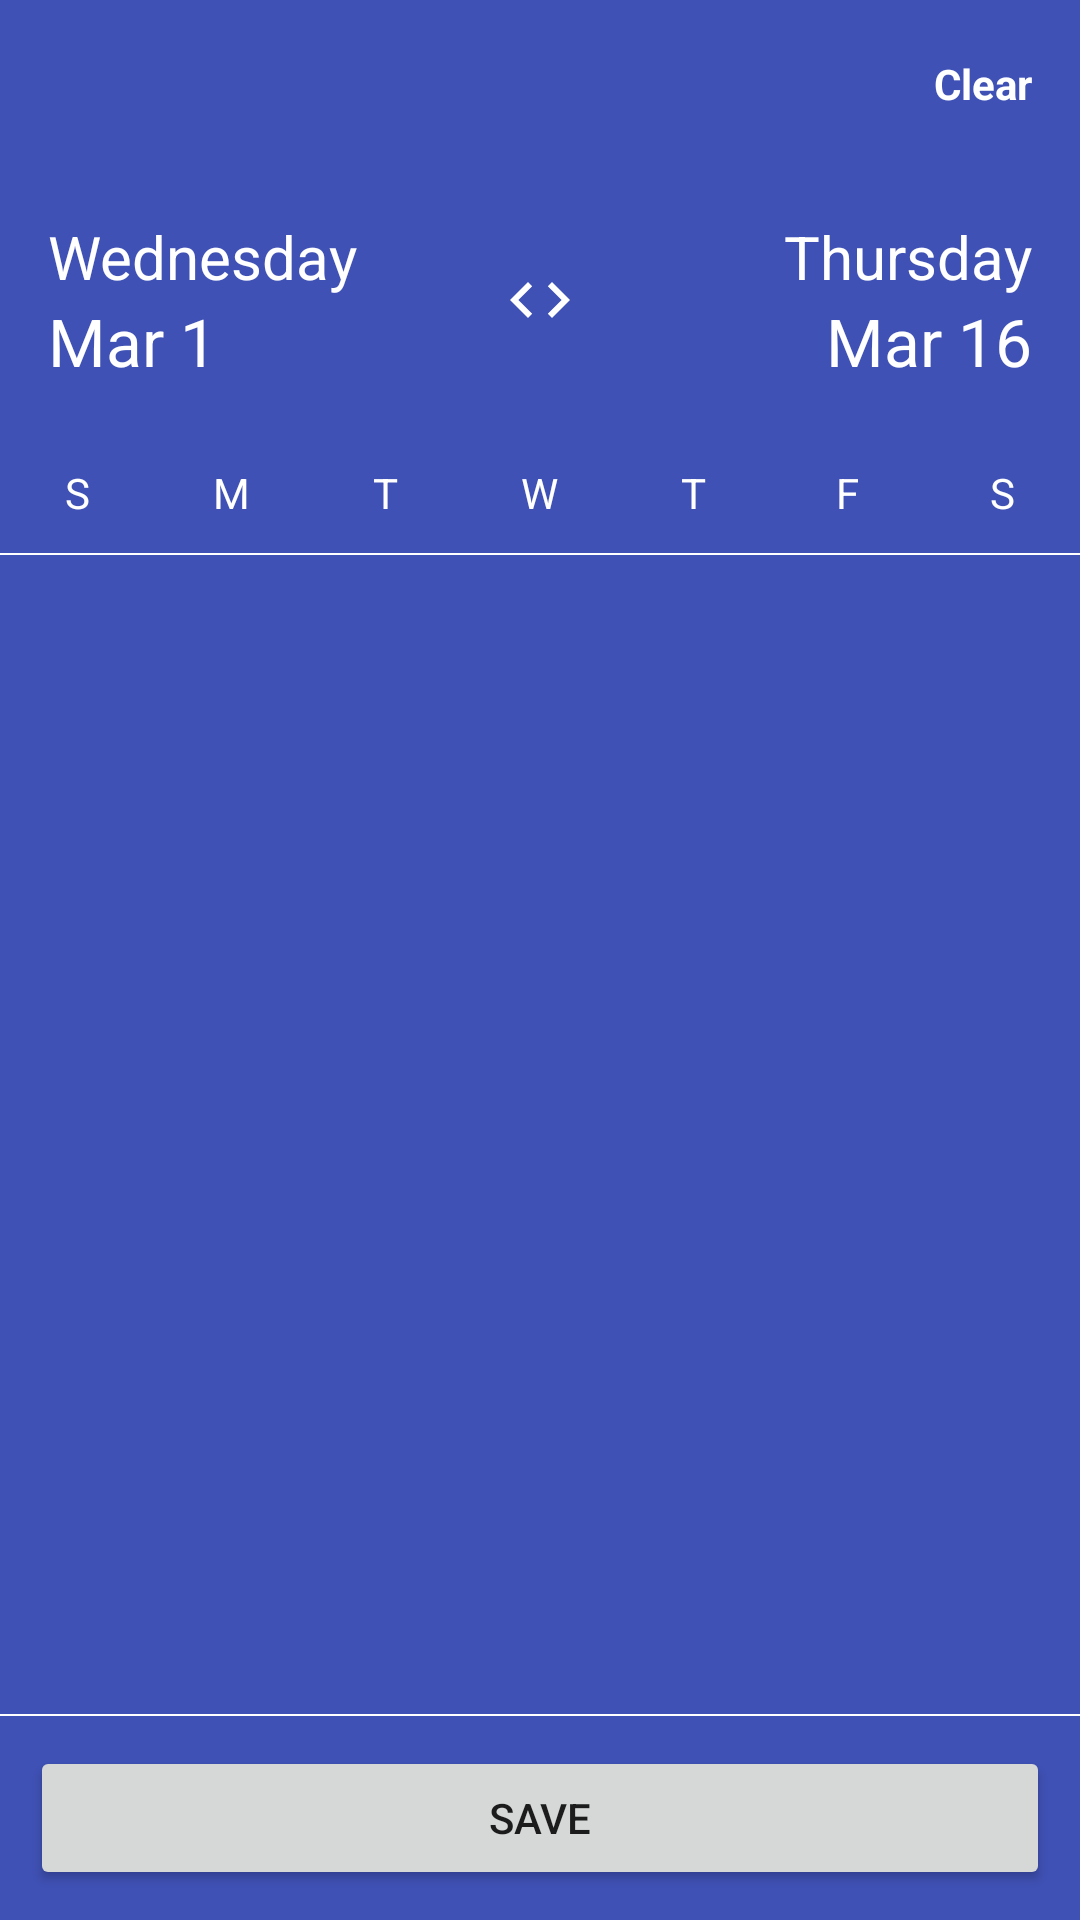

Named icons in this screenshot (1080*1920) and their centers, point (x, y):
code: point (540, 300)
